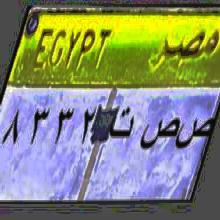2: (78, 102, 96, 144)
3: (28, 100, 52, 157), (56, 99, 74, 151)
8: (2, 103, 22, 158)
saad: (139, 117, 178, 159), (178, 112, 214, 156)
taa: (108, 102, 136, 150)
